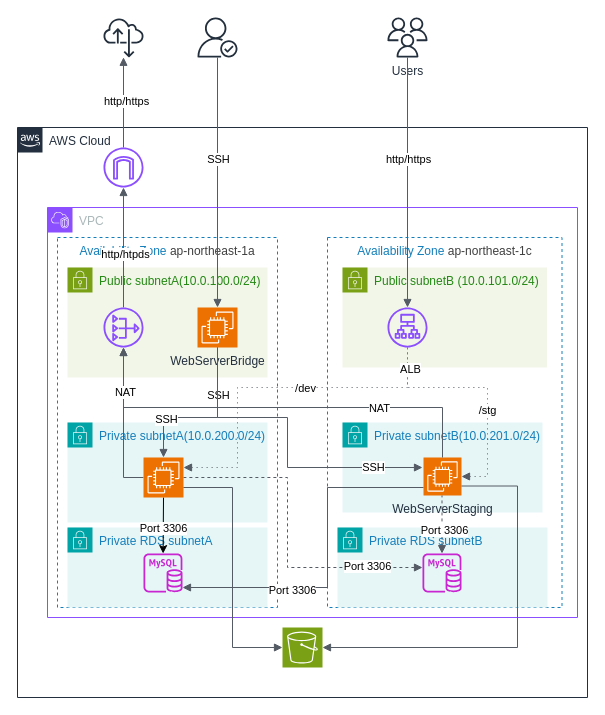
This 605x715 diagram has some shape labels left out. The centre of each missing label's shape, as x and y in pixels:
Developer: the point at 217,37
Internet: the point at 123,37
Master: the point at 162,572
Read Replica: the point at 441,572
S3: the point at 302,647
WebServerDevelop: the point at 163,477
